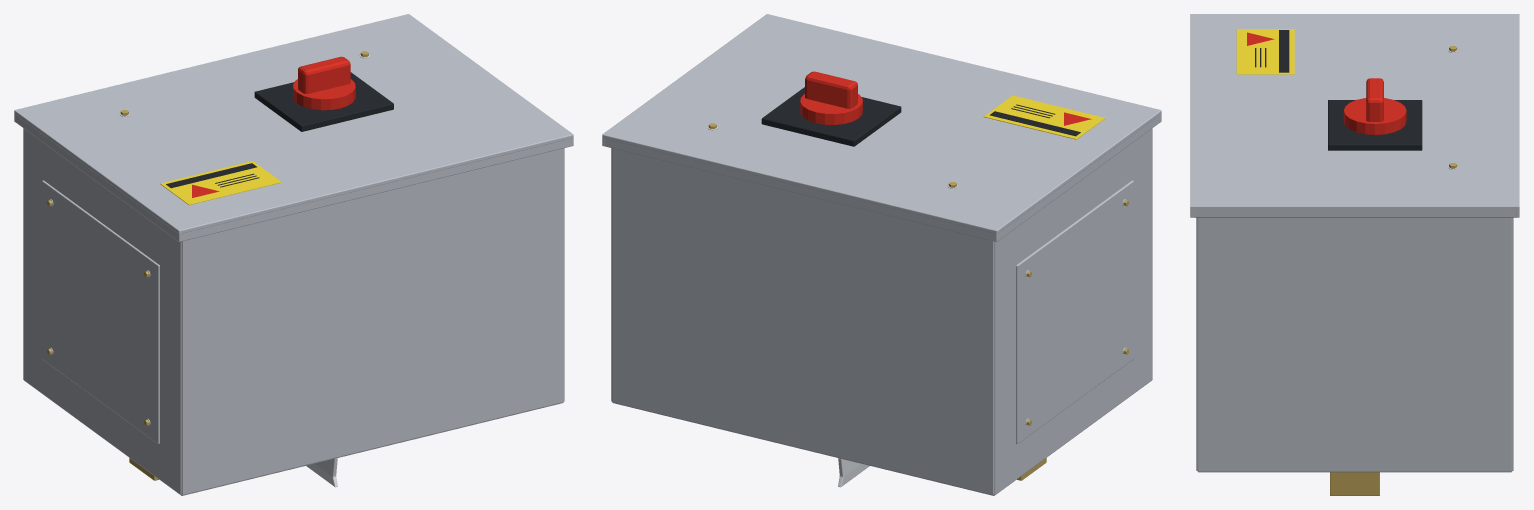
File: tap-off-rotary-bottom.glb
3 views of the same model, side by side, from view 1: azimuth 30°, elevation 25°; view 2: azimuth 150°, elevation 25°; view 3: azimuth 270°, elevation 25° (orthographic).
Visible parts, largest first — view 1: Side sheet, Lid sheet, Gland plate, End sheet, Lid long return, Switch escutcheon, Yellow danger label, Red rotary grip, Lid end return, Rotary base; view 2: Side sheet.001, Lid sheet, Gland plate, End sheet, Lid long return.001, Switch escutcheon, Yellow danger label, Red rotary grip, Lid end return, Rotary base; view 3: End sheet.001, Lid sheet, Switch escutcheon, Lid end return.001, Yellow danger label, Rotary base, Earth return.001, Red rotary grip, Rear mounting panel, Side sheet, Side sheet.001, Black warning header.
Part boxes in pixels (<box>): Side sheet: <box>181,148,564,495</box>; Lid sheet: <box>14,14,573,233</box>; Gland plate: <box>42,180,159,443</box>; End sheet: <box>23,128,181,494</box>; Lid long return: <box>177,138,571,241</box>; Switch escutcheon: <box>254,72,393,131</box>; Yellow danger label: <box>160,161,281,205</box>; Red rotary grip: <box>298,56,350,93</box>; Lid end return: <box>15,115,181,241</box>; Rotary base: <box>293,79,355,110</box>; Side sheet.001: <box>611,148,994,495</box>; Lid sheet: <box>602,14,1161,233</box>; Gland plate: <box>1016,180,1133,443</box>; End sheet: <box>994,128,1152,494</box>; Lid long return.001: <box>604,138,998,241</box>; Switch escutcheon: <box>761,87,901,146</box>; Yellow danger label: <box>984,95,1105,139</box>; Red rotary grip: <box>805,71,857,108</box>; Lid end return: <box>994,115,1160,241</box>; Rotary base: <box>800,94,862,124</box>; End sheet.001: <box>1197,217,1512,471</box>; Lid sheet: <box>1190,14,1519,209</box>; Switch escutcheon: <box>1328,100,1422,150</box>; Lid end return.001: <box>1193,209,1516,217</box>; Yellow danger label: <box>1236,29,1294,74</box>; Rotary base: <box>1343,98,1406,134</box>; Earth return.001: <box>1330,472,1379,495</box>; Red rotary grip: <box>1366,78,1383,121</box>; Rear mounting panel: <box>1197,471,1512,472</box>; Side sheet: <box>1196,217,1197,470</box>; Side sheet.001: <box>1512,217,1513,470</box>; Black warning header: <box>1279,30,1289,72</box>.
Size of the model in its own units: 0.362 by 0.3285 by 0.262.
